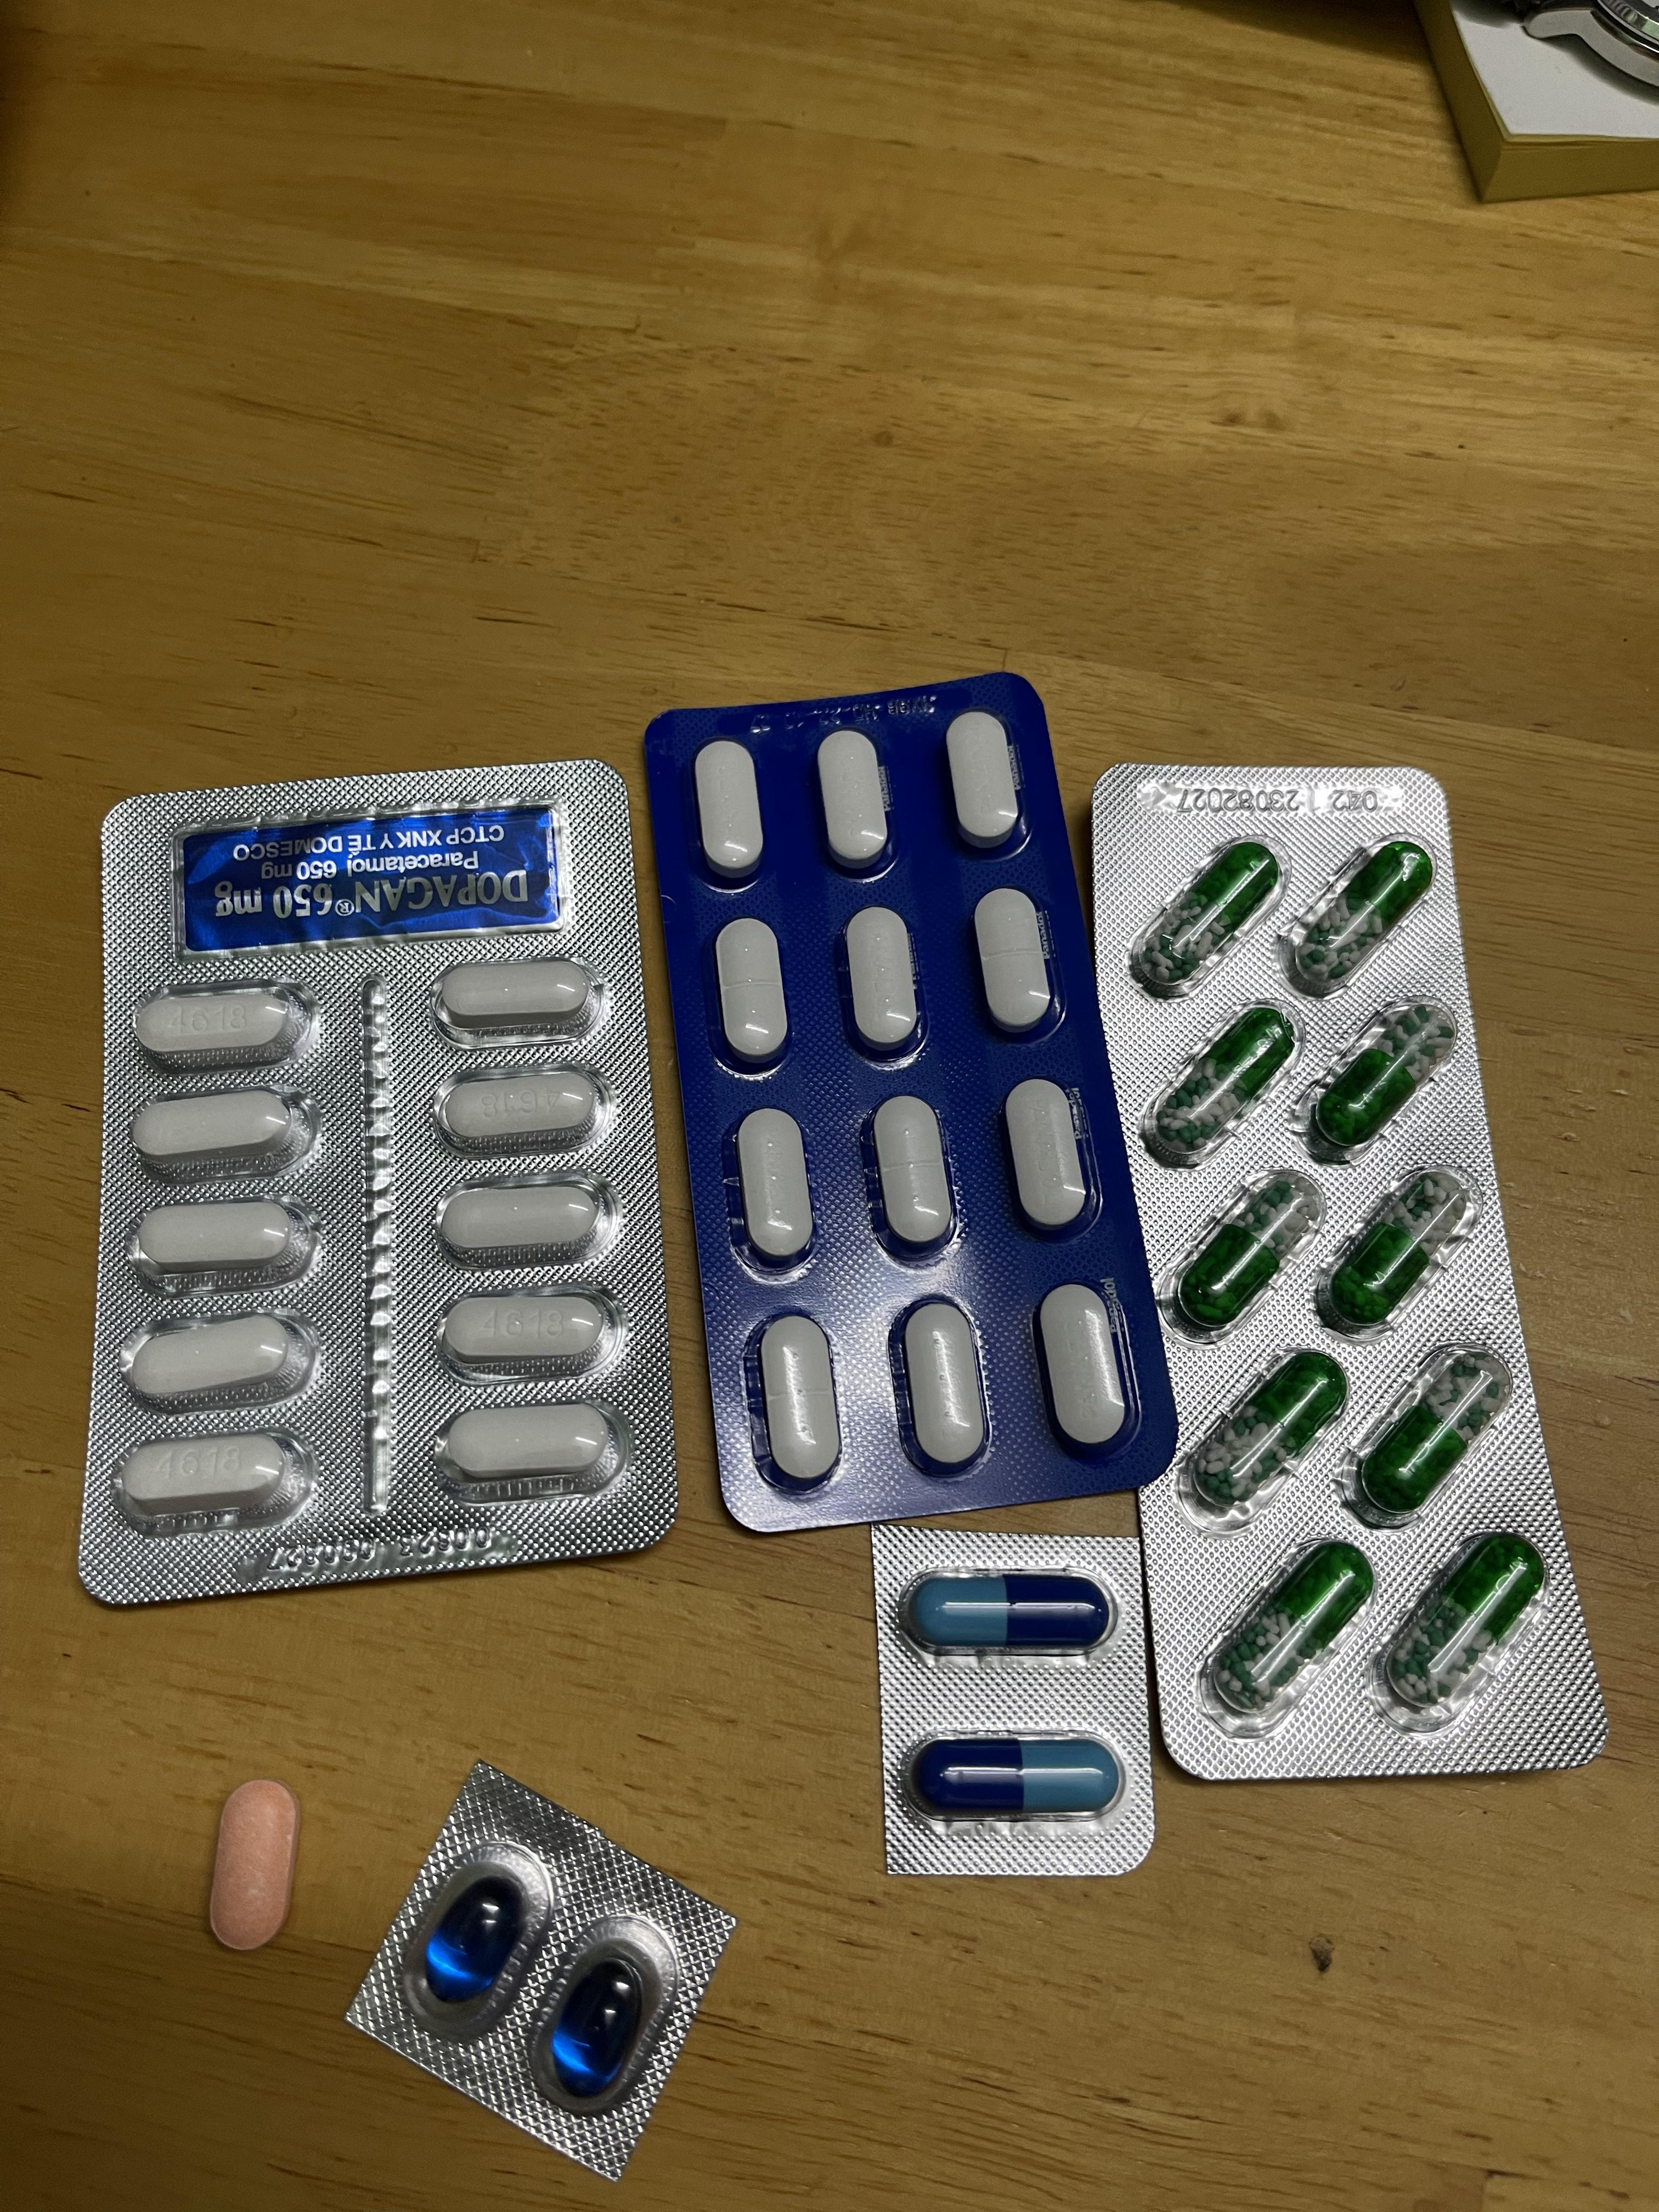Lincomyxin_500mg: (552, 1958, 643, 2088), (425, 1879, 521, 1998)
Loratadine_10mg: (209, 1778, 300, 1951)
Paracetamol_350mg: (1037, 1284, 1131, 1449), (1002, 1076, 1094, 1238), (901, 1301, 986, 1472), (758, 1315, 842, 1487), (871, 1094, 957, 1254), (972, 887, 1056, 1040), (735, 1108, 814, 1264), (843, 906, 922, 1057), (714, 916, 789, 1066), (945, 709, 1023, 852), (816, 730, 890, 873), (694, 740, 765, 880)
Paracetamol_500mg: (110, 1428, 317, 1533), (119, 1310, 321, 1406), (432, 1400, 629, 1487), (124, 1198, 319, 1284), (437, 1285, 622, 1374), (436, 1170, 619, 1259), (125, 1087, 317, 1169), (434, 1064, 612, 1150), (131, 986, 314, 1064), (430, 954, 601, 1038)
Paracetamol_650mg: (1143, 1001, 1298, 1165), (1391, 1538, 1541, 1707), (1323, 1167, 1473, 1329), (1220, 1547, 1368, 1710), (1356, 1355, 1507, 1514), (1175, 1165, 1323, 1327), (1305, 998, 1457, 1155), (1194, 1350, 1344, 1508), (1284, 836, 1434, 991), (1136, 841, 1279, 995)
pill: (913, 1738, 1119, 1815), (911, 1576, 1108, 1649)
